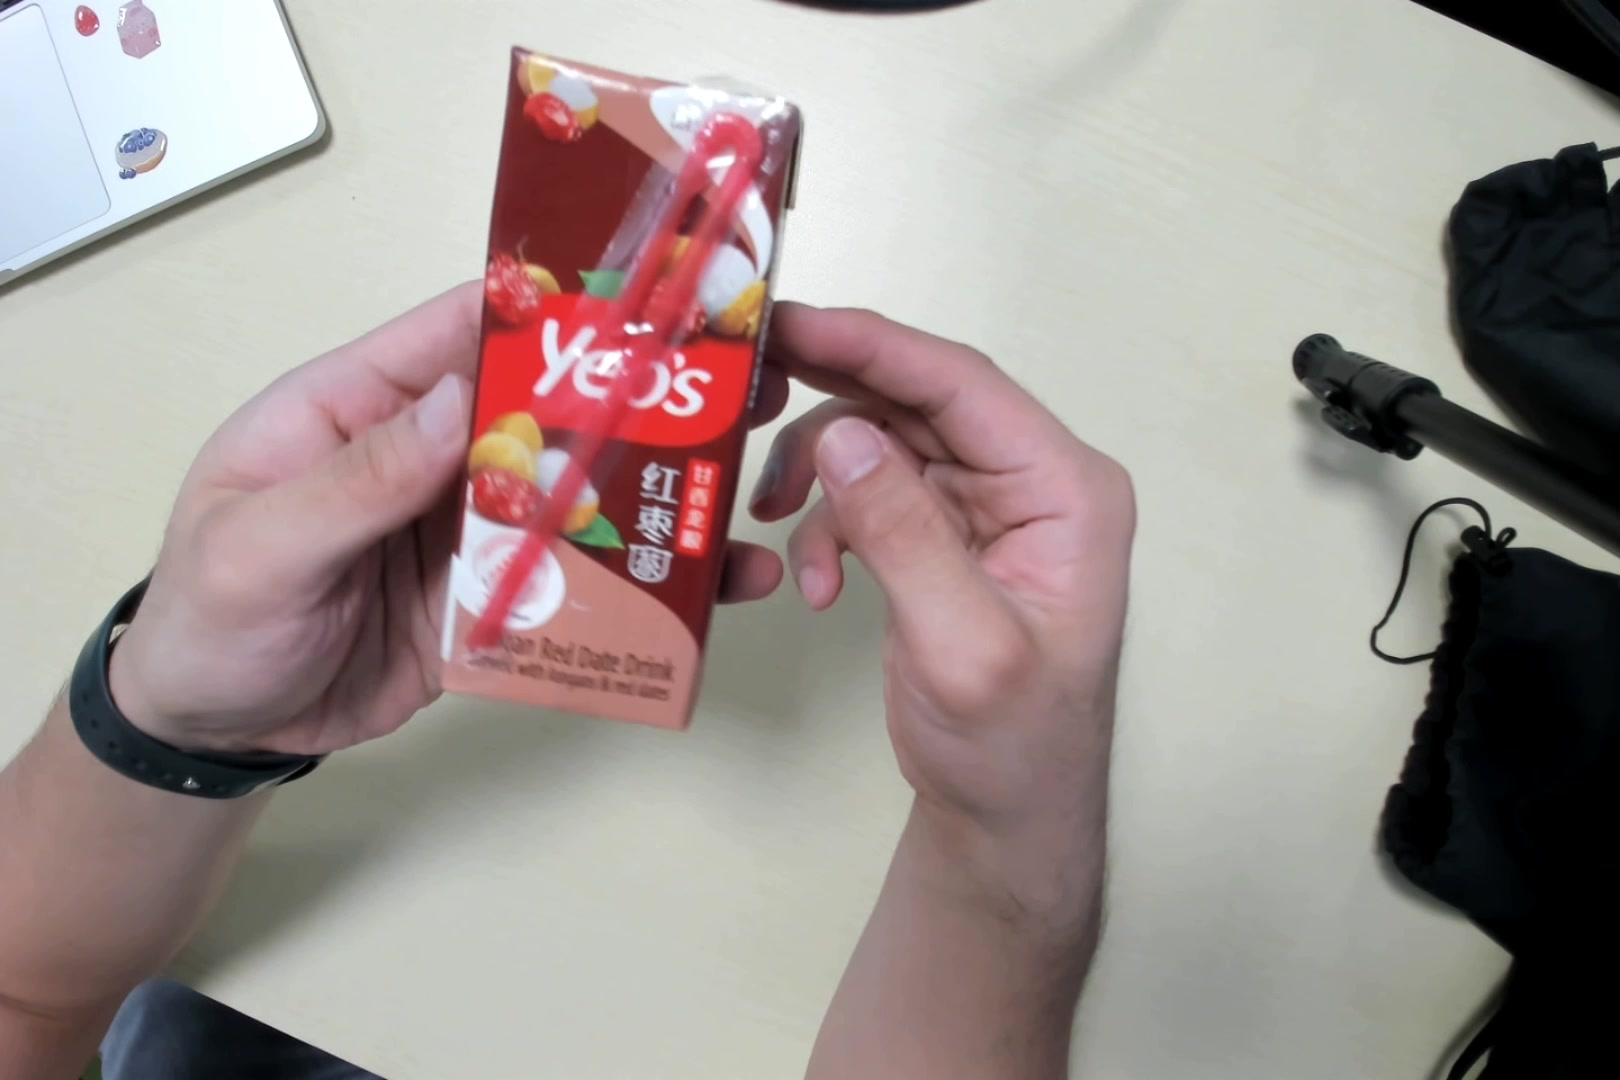TeaDrink_200-299g_Halal_Healthy: (447, 42, 800, 734)
